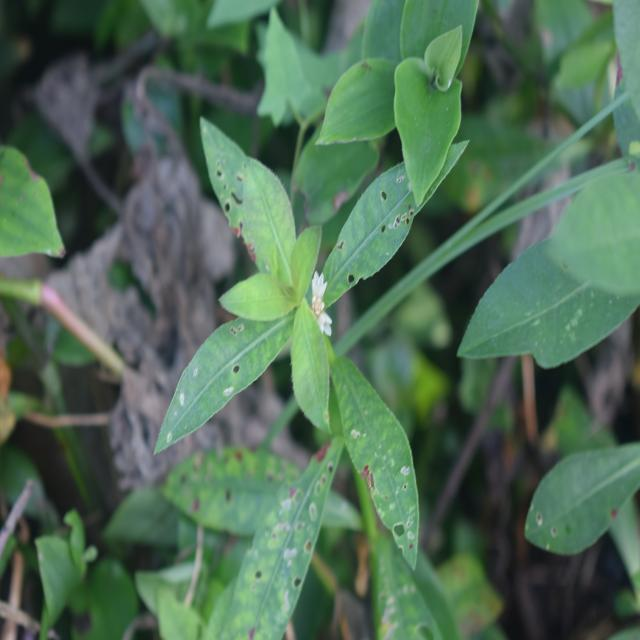Alligatorweed: (162, 124, 434, 535)
